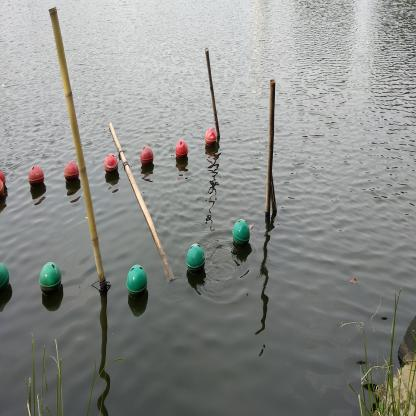green_buoy: (124, 262, 149, 300), (41, 260, 63, 299), (230, 218, 253, 254), (186, 243, 205, 275), (0, 262, 13, 298)
red_buoy: (28, 163, 47, 194), (64, 156, 80, 190), (103, 152, 120, 180), (174, 134, 188, 164), (140, 144, 154, 171), (204, 126, 220, 148)
